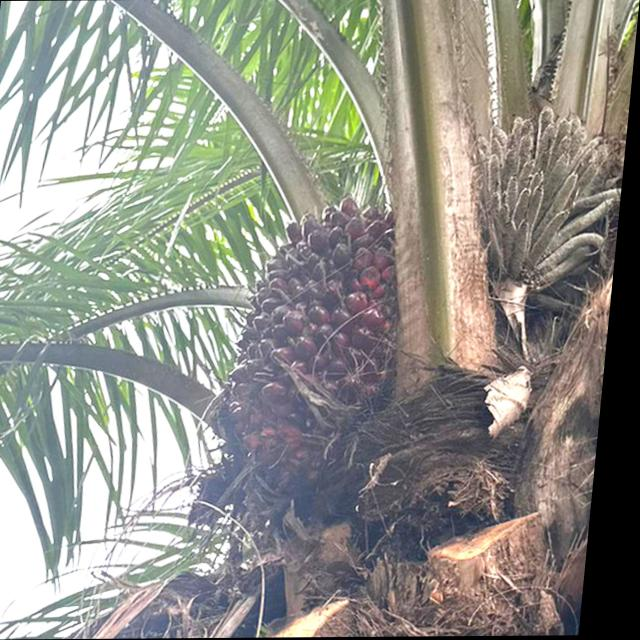ripe: (229, 191, 416, 461)
